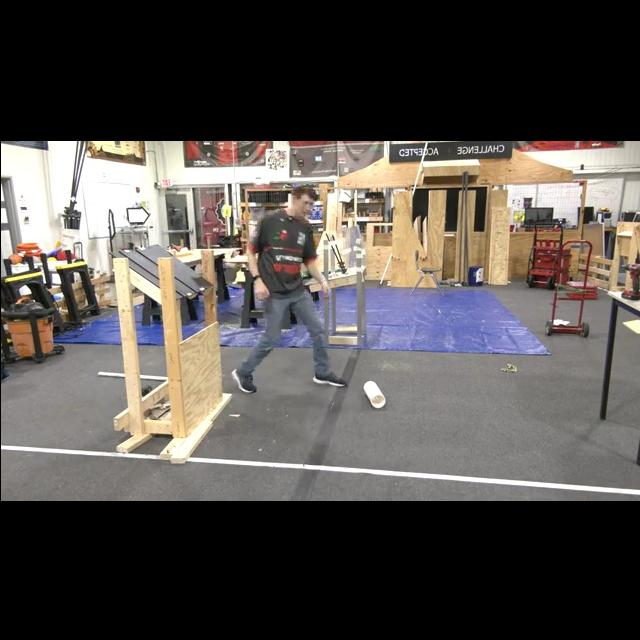CORAL: (362, 378, 386, 407)
